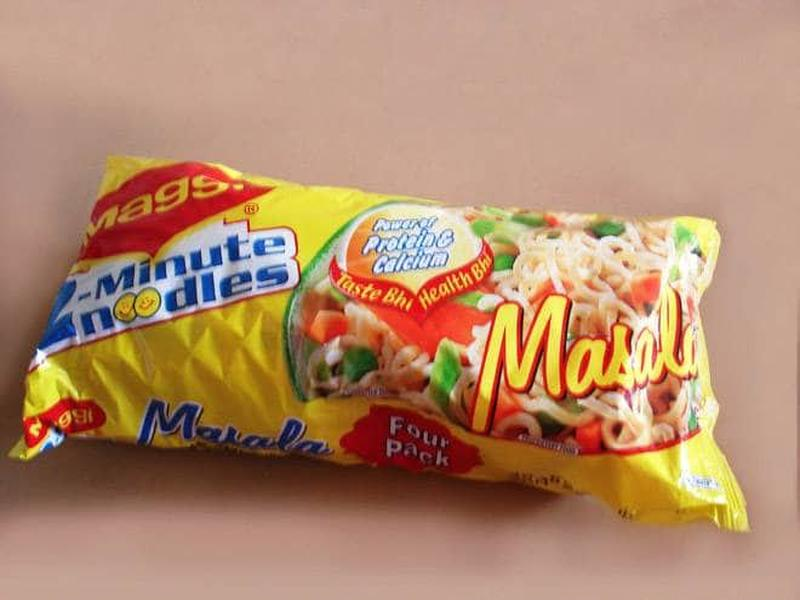maggi-family: (26, 159, 752, 529)
